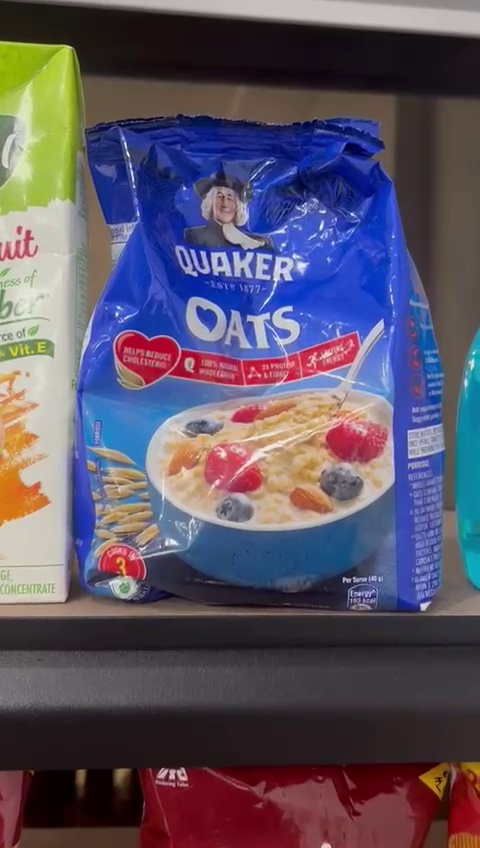Quaker Oats: (76, 115, 445, 610)
